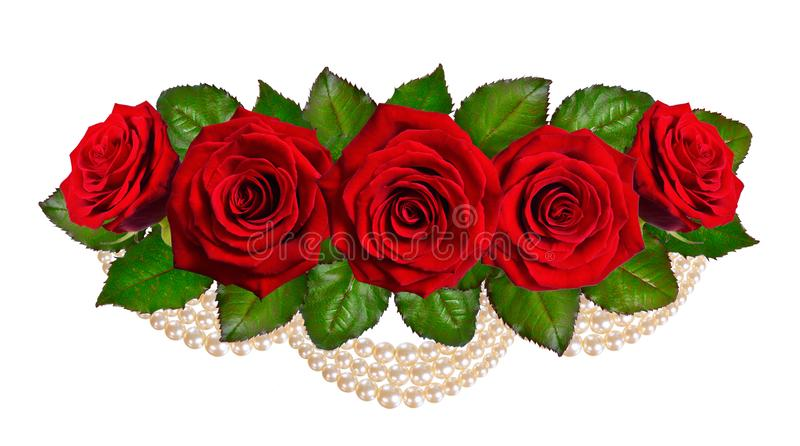RedRose: (162, 101, 333, 304), (333, 98, 498, 304), (495, 128, 632, 294), (57, 88, 185, 233), (627, 93, 743, 240)
